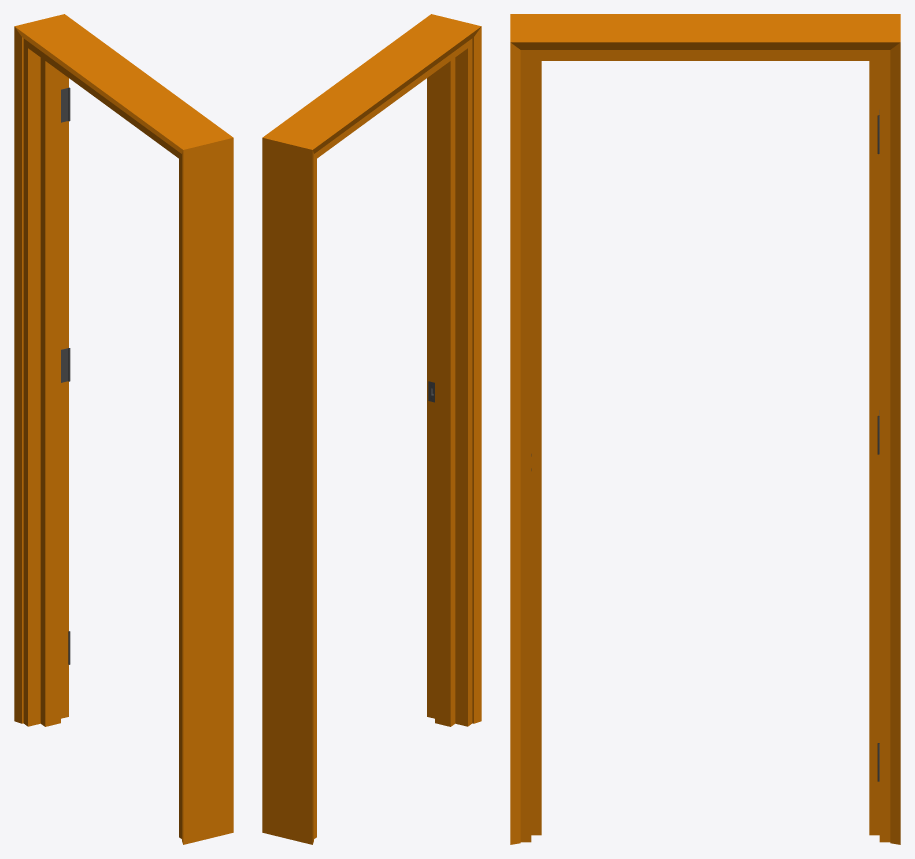
The model's file is SM_MB_DoorFrame_2.fbx.
The picture shows the model from 3 angles, left to right: view 1: azimuth 30°, elevation 25°; view 2: azimuth 150°, elevation 25°; view 3: azimuth 270°, elevation 25°; orthographic projection. The views are drawn at different scales.
Visible parts, largest first — view 1: SM_MB_DoorFrame_2; view 2: SM_MB_DoorFrame_2; view 3: SM_MB_DoorFrame_2.
Part boxes in pixels (x1,y1,x2,y2): SM_MB_DoorFrame_2: [14, 14, 233, 844]; SM_MB_DoorFrame_2: [262, 14, 481, 844]; SM_MB_DoorFrame_2: [510, 14, 900, 844].
Bounding box in the file's own units: 16 × 211 × 93.
